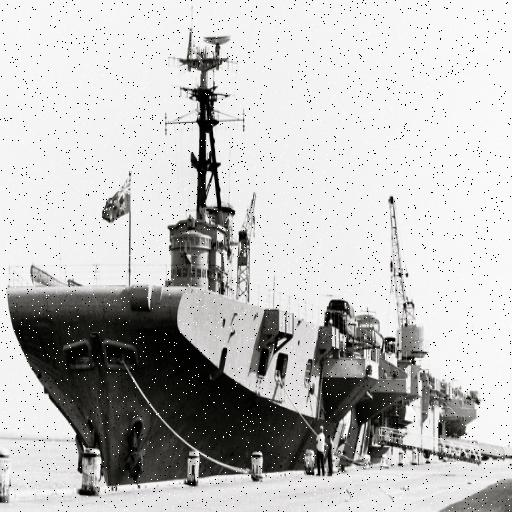Portanaves: (4, 20, 486, 491)
